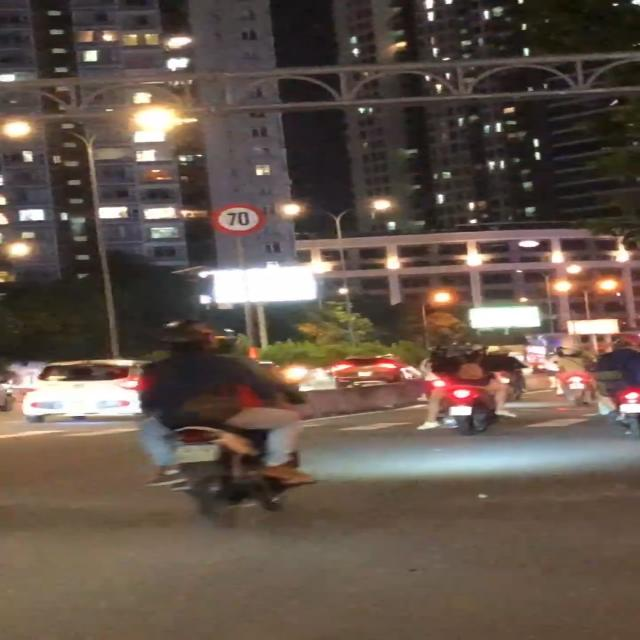Bien bao toc do toi da cho phep: (209, 200, 267, 236)
